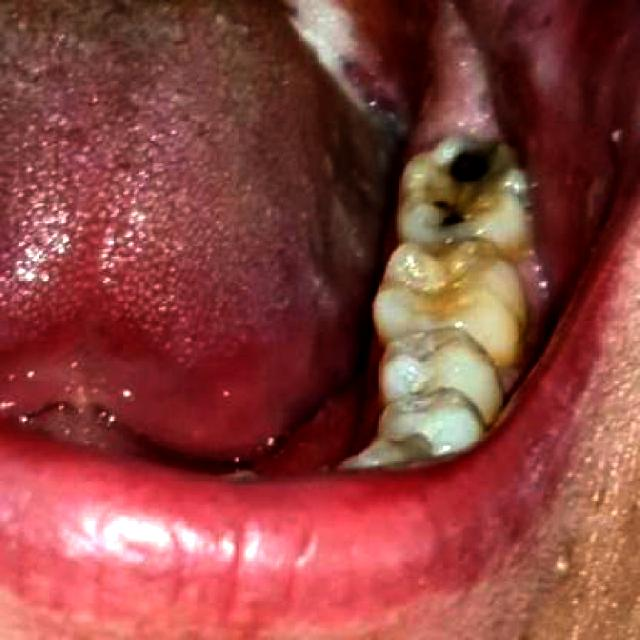Plaque: (431, 197, 471, 226)
